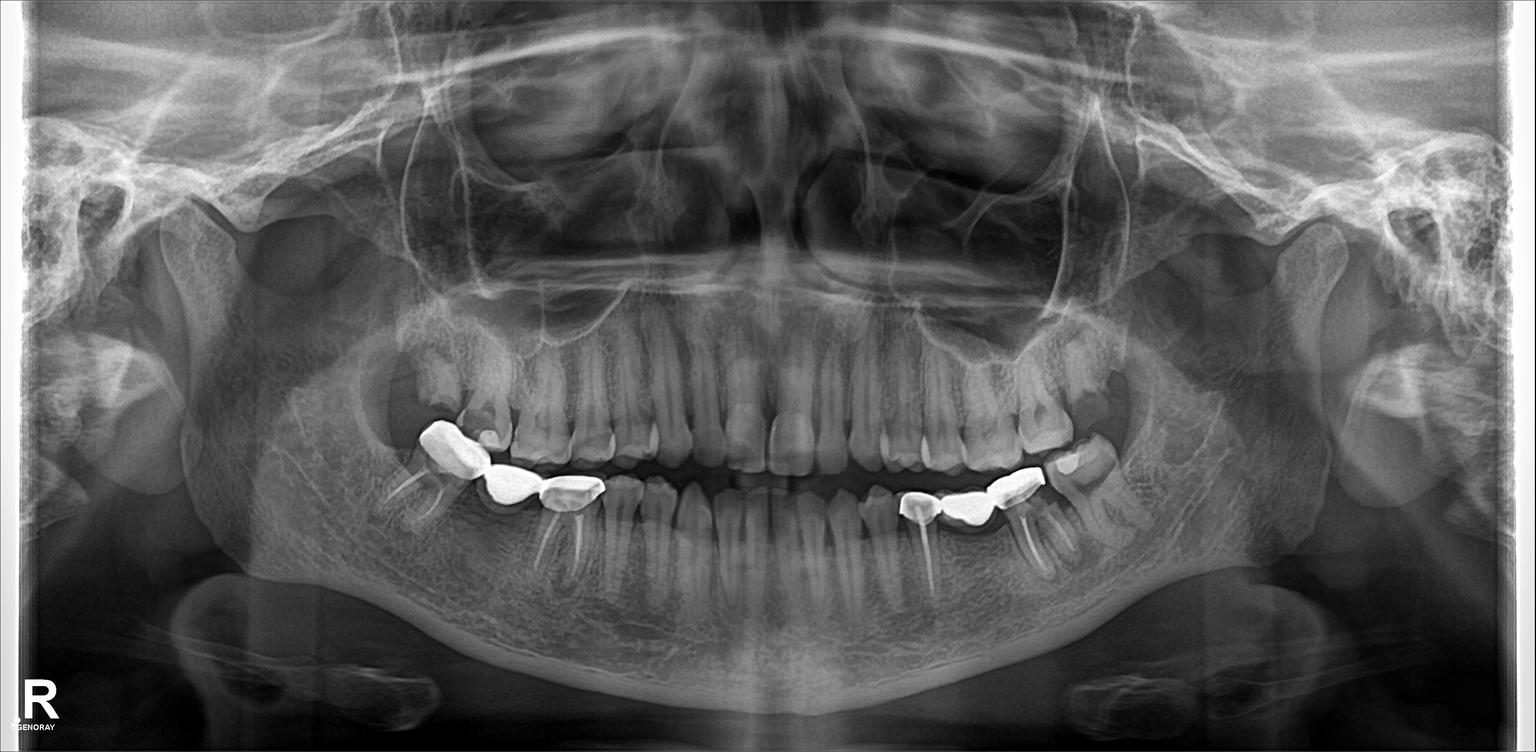Dental Caries: (466, 404, 502, 435), (1076, 393, 1114, 420)
Endodontically Treated Tooth: (939, 501, 1007, 608), (551, 475, 606, 603), (413, 423, 477, 523), (480, 475, 536, 581), (899, 499, 946, 612), (1004, 482, 1058, 566)
Missing Tooth: (385, 333, 416, 417)
Retained Root: (422, 331, 471, 419)
Tooth Fracture: (1060, 337, 1128, 429)
